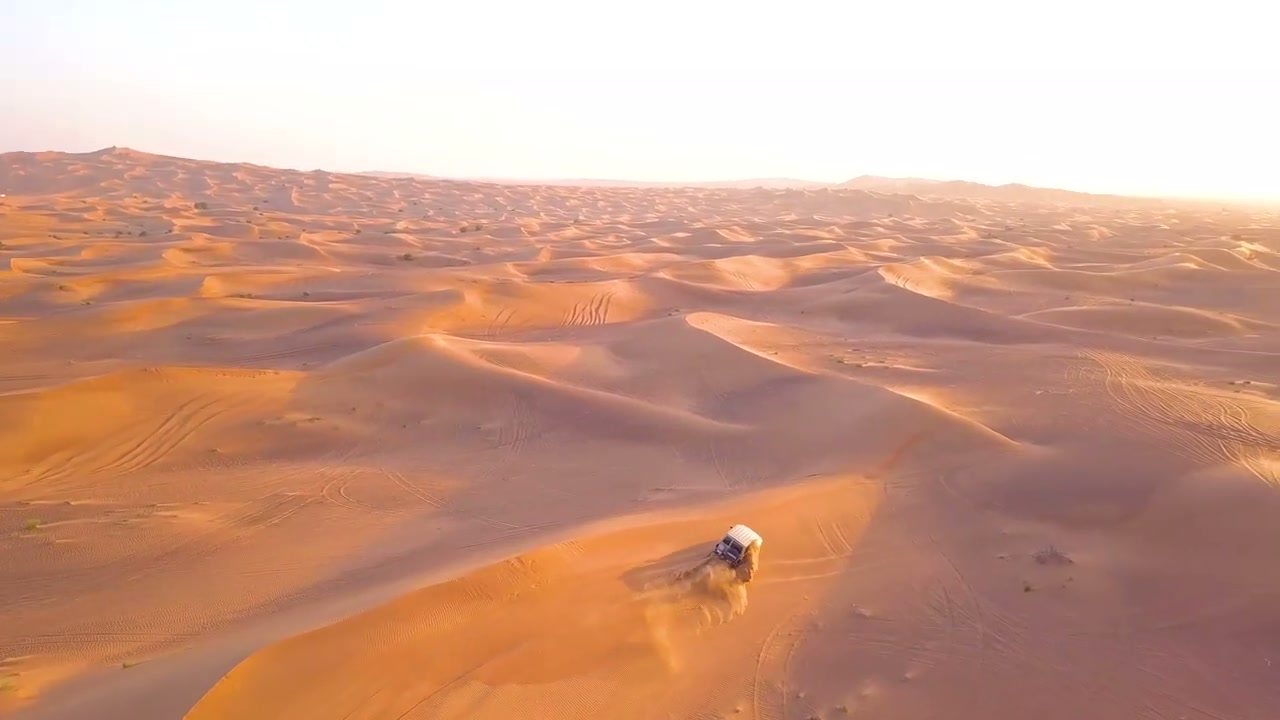vehicle_track: (89, 446, 353, 588), (109, 444, 357, 581), (1082, 350, 1279, 485), (15, 395, 233, 484), (929, 534, 1025, 670), (94, 397, 225, 472), (379, 467, 517, 531), (929, 534, 988, 672), (749, 611, 801, 719), (396, 659, 488, 719), (479, 390, 533, 486), (484, 389, 537, 482), (0, 631, 196, 651), (321, 468, 394, 514), (458, 521, 562, 548), (380, 467, 444, 509), (234, 343, 329, 366), (561, 291, 614, 327), (504, 392, 533, 455), (705, 438, 734, 488), (814, 521, 852, 556), (707, 438, 733, 489), (484, 307, 515, 338), (725, 270, 756, 291), (560, 301, 583, 327)
